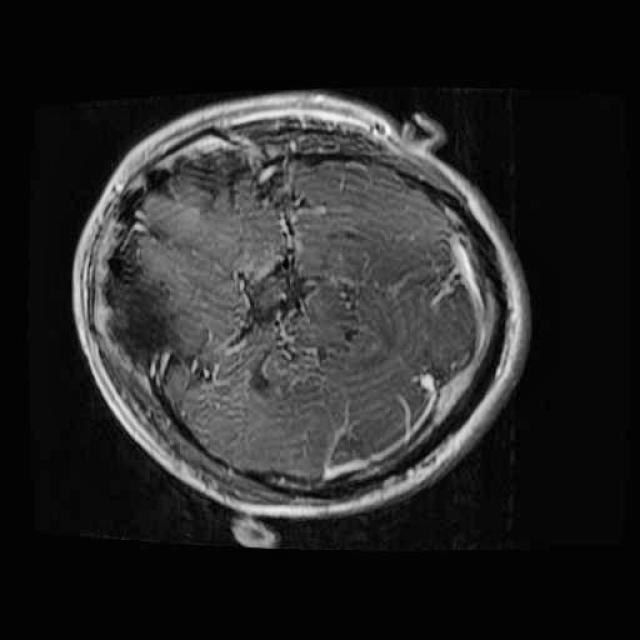Non-Tumor: (229, 238, 319, 340)
